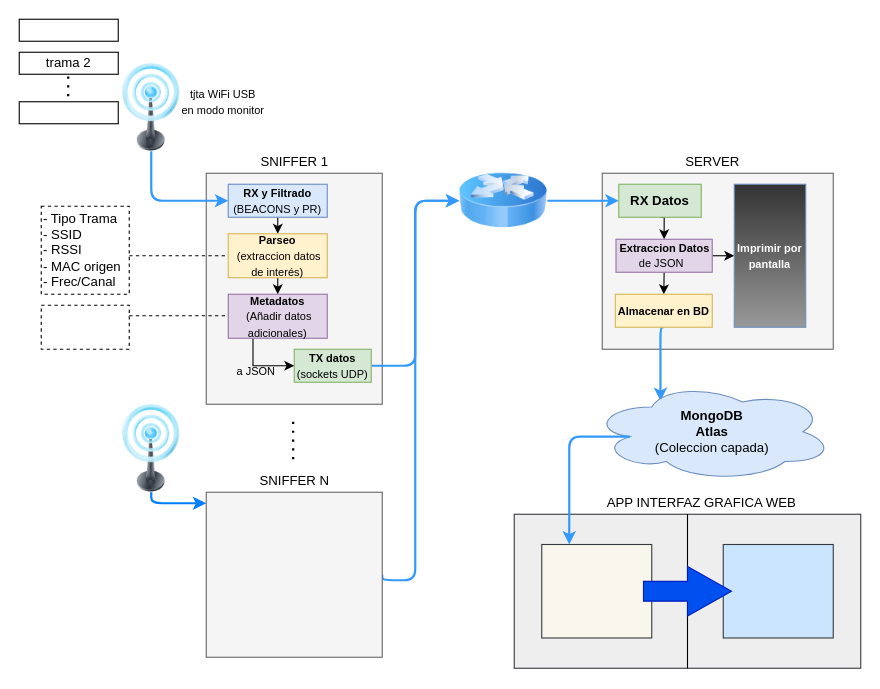
Some shapes in this 880 by 689 pixel diagram are drawn without their labels. Each missing label, with the centre of its shape:
"- Sniffer ID - TimeStamp" goes at (84,326).
"Estadísticas" goes at (777,590).
"Tabla de datos de las últimas tramas" goes at (596,590).
"trama 1" goes at (68,29).
"trama n" goes at (68,112).
